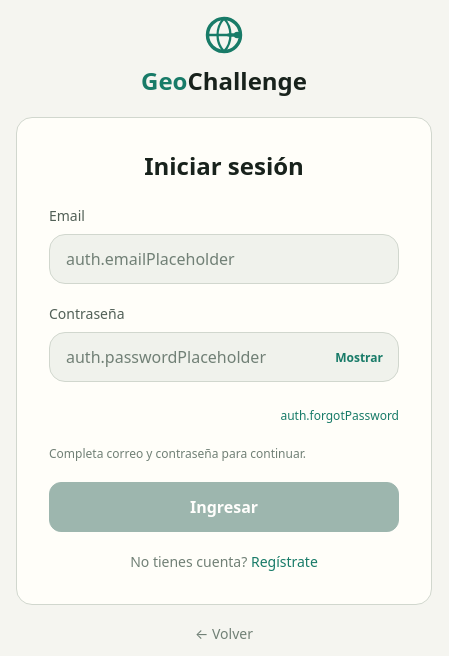
Scenario: LoginPage › deshabilita enviar hasta completar campos y muestra ayuda contextual
Expected: the button "Ingresar" is disabled, left=49, top=482, right=399, bottom=532
Expected: the text "Completa correo y contraseña para continuar." is shown, left=49, top=445, right=306, bottom=462
Type "test@example.com" into the field labelled "Email" at (224, 259), box left=49, top=234, right=399, bottom=284
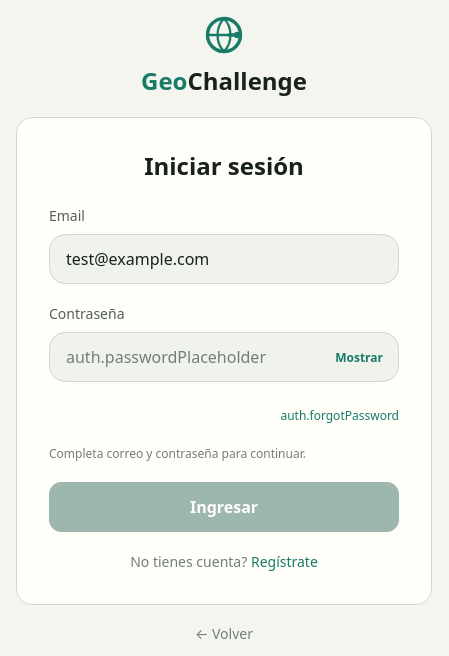
Type "secret123" into the password field labelled "Contraseña" at (224, 357), box left=49, top=332, right=399, bottom=382
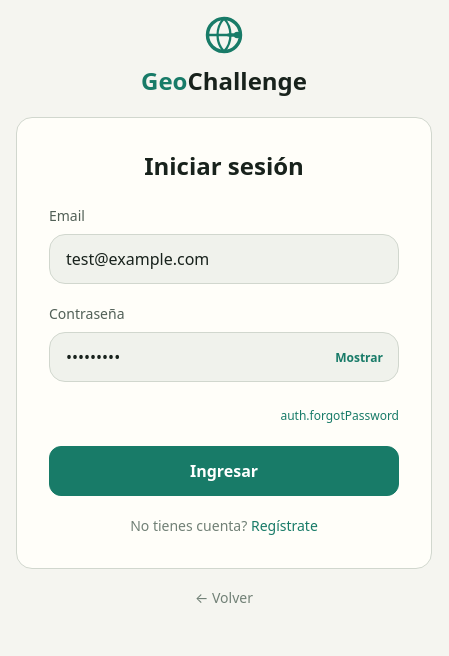
Expected: the button "Ingresar" is enabled, left=49, top=446, right=399, bottom=496
Expected: the text "Completa correo y contraseña para continuar." is gone
